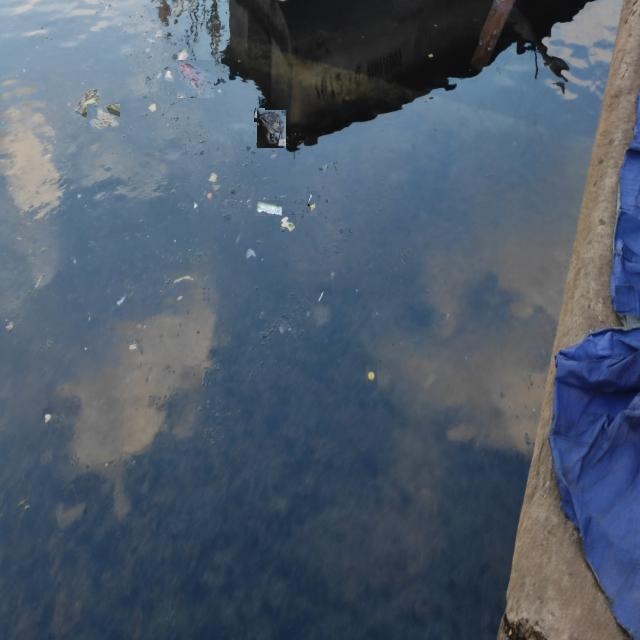Bottle cap: (366, 366, 377, 385), (145, 46, 151, 54)
Plastic: (244, 247, 257, 260), (254, 108, 265, 122), (148, 102, 158, 114), (155, 69, 163, 81)
Plastic bag: (177, 60, 215, 98), (257, 110, 286, 148), (74, 85, 104, 118), (87, 104, 120, 132), (212, 73, 228, 89)
Plastic cup: (176, 48, 190, 65), (162, 70, 175, 83)
Plastic packaging: (255, 200, 283, 216), (306, 191, 317, 216), (280, 215, 296, 232)
